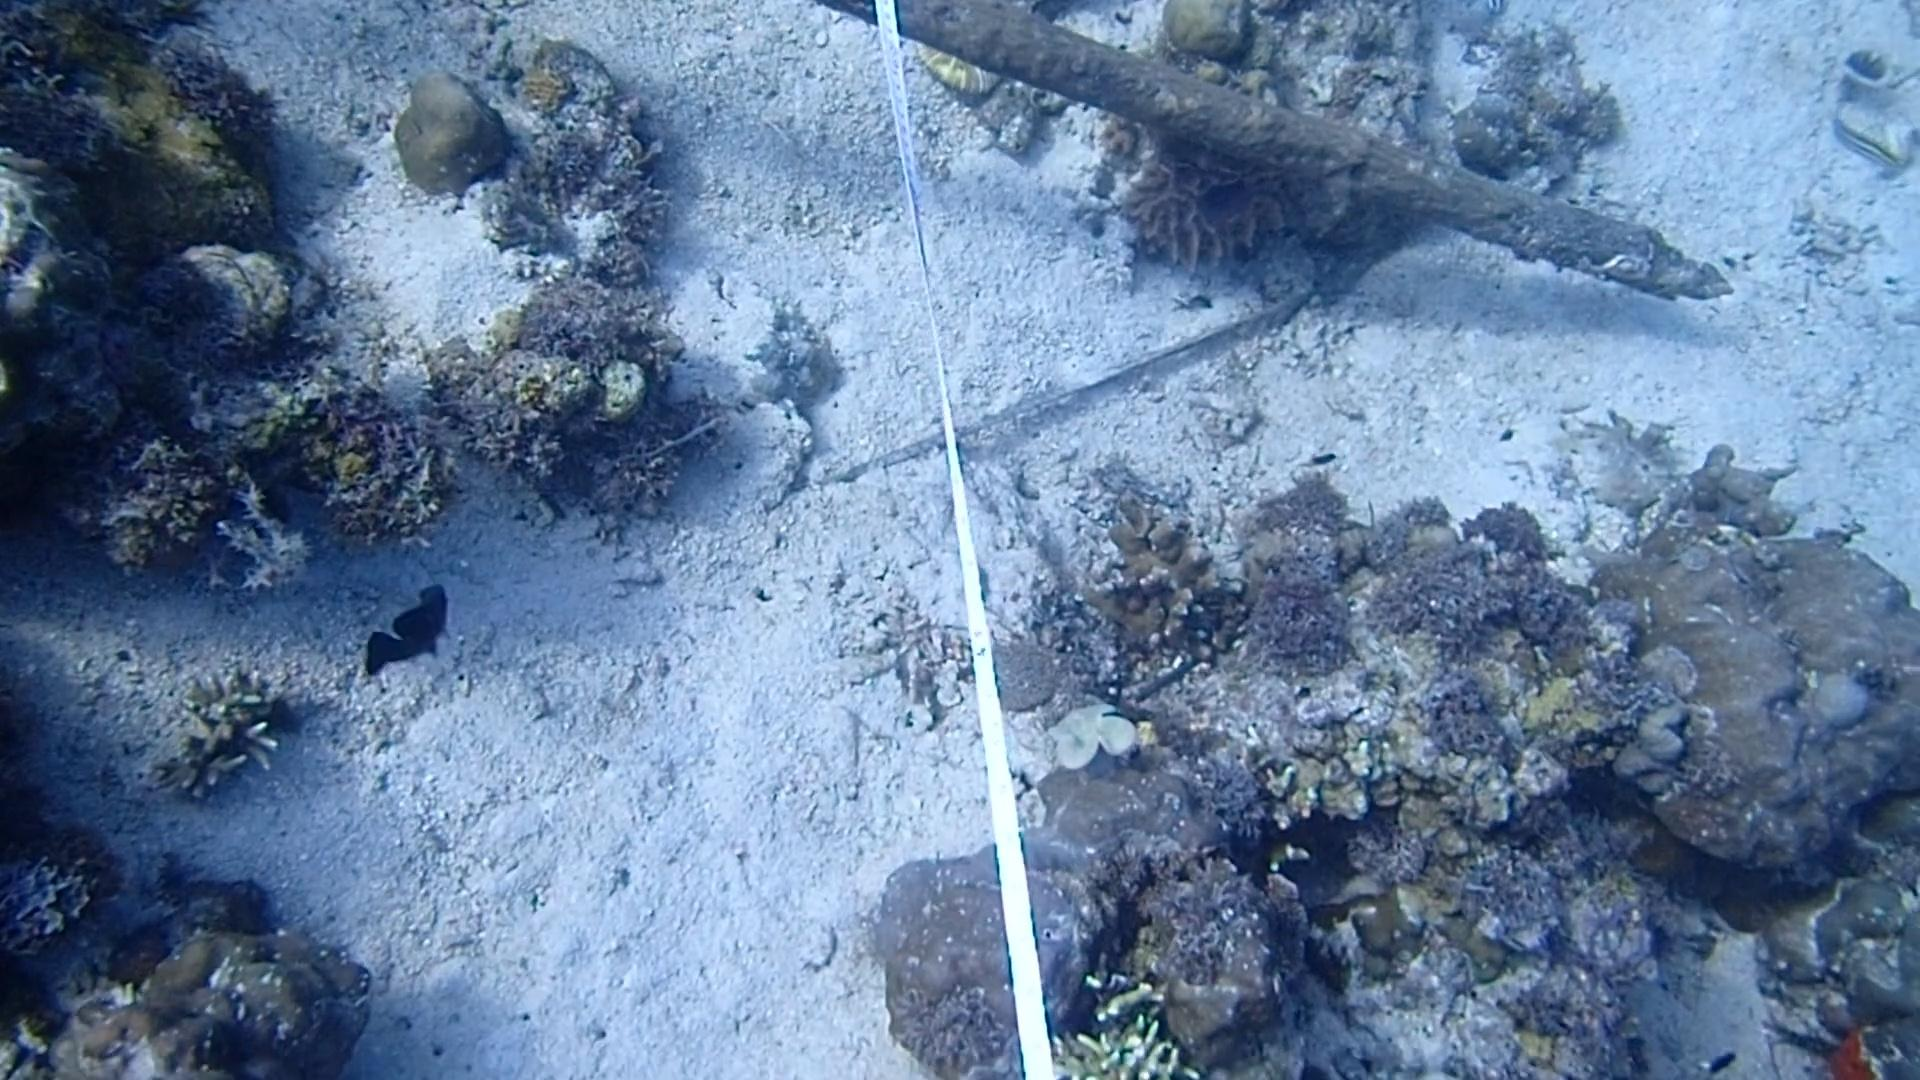Dark Fish: (343, 585, 463, 690)
Striped Fish: (1822, 105, 1908, 183)
